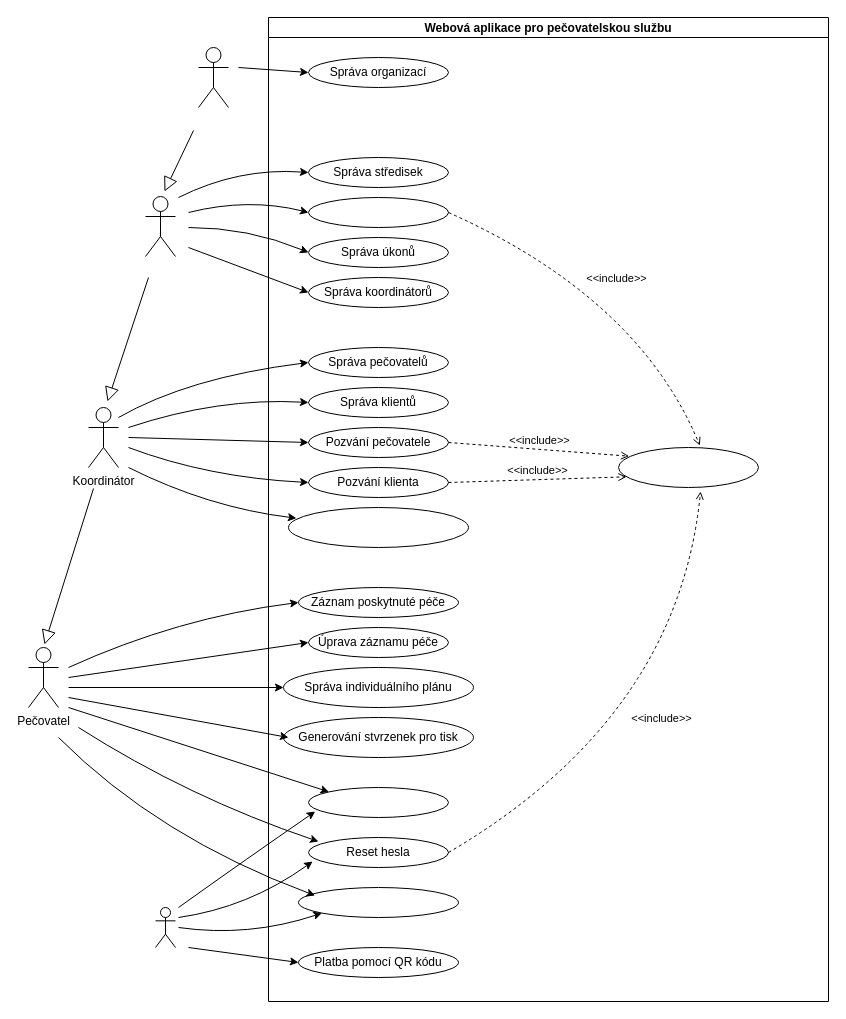
Image size: 846x1019. Some labels were removed from this diagram. The centre of each missing label's shape, as x and y in pixels:
"Administrátor" belongs at pixel 160 226.
"Klient" belongs at pixel 165 927.
"Odeslání e-mailu" belongs at pixel 688 467.
"Pozvání koordinátora" belongs at pixel 378 212.
"Přiřazení pečovatele klientovi" belongs at pixel 378 527.
"Správa vlastního účtu" belongs at pixel 378 802.
"Superadministrátor" belongs at pixel 213 77.
"Zobrazení historie péče" belongs at pixel 378 902.
